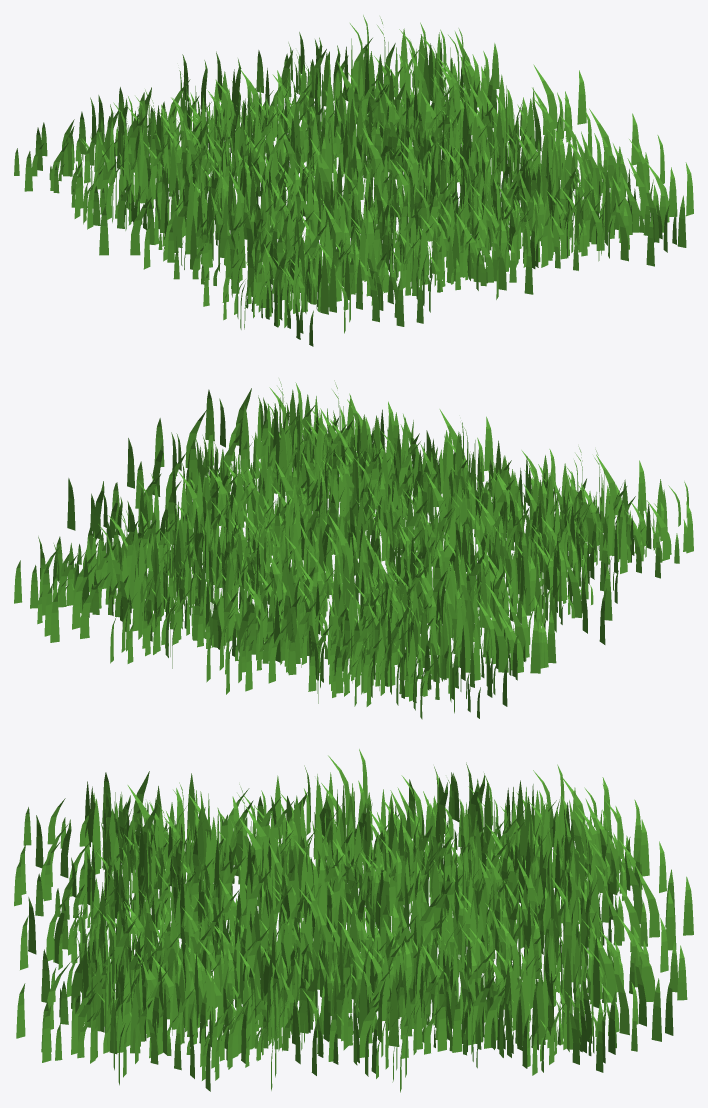
The model's file is Grass.gltf.
The picture shows the model from 3 angles, top to bottom: view 1: azimuth 30°, elevation 25°; view 2: azimuth 150°, elevation 25°; view 3: azimuth 270°, elevation 25°; orthographic projection. The views are drawn at different scales.
Parts seen in each view (by area): view 1: Plane.532; view 2: Plane.532; view 3: Plane.532.
Part boxes in pixels (left/top/right/bottom): Plane.532: left=14, top=15, right=693, bottom=346; Plane.532: left=14, top=379, right=693, bottom=719; Plane.532: left=14, top=749, right=693, bottom=1092.
Bounding box in the file's own units: 18.97 × 2.31 × 19.05.
